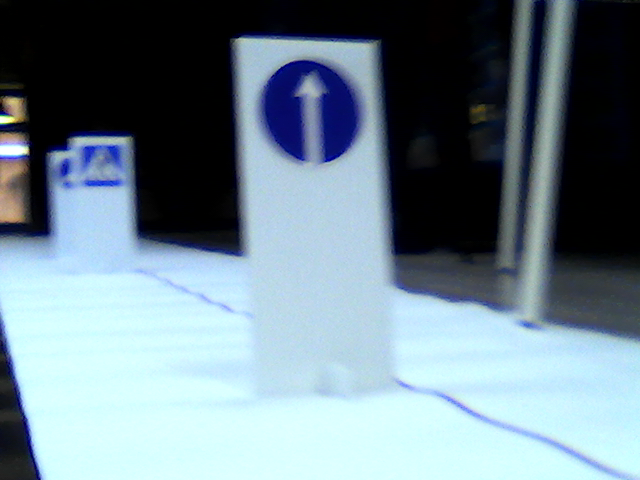forw: (262, 51, 361, 164)
pesh: (87, 146, 122, 184)
